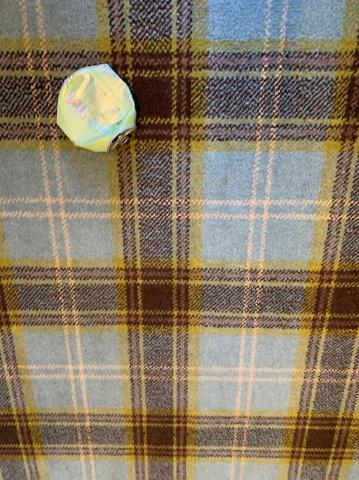kaleng: (56, 65, 136, 153)
